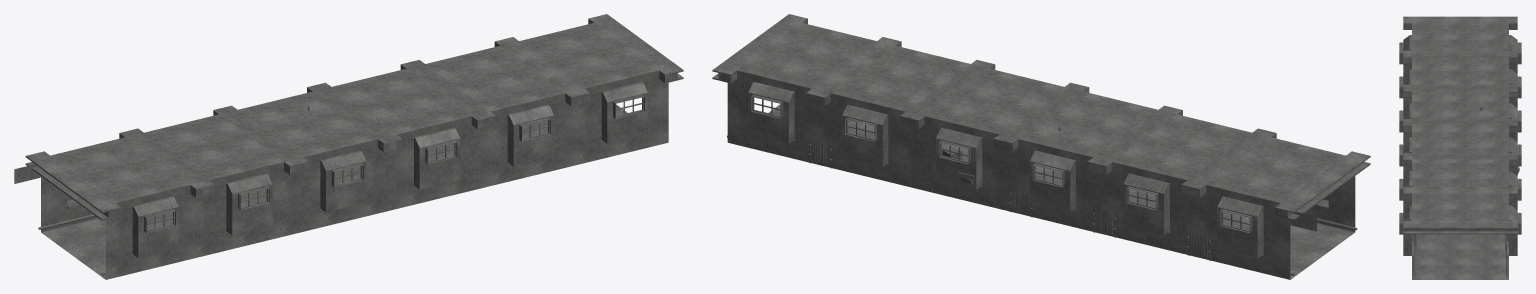
The model's file is interior environment blockout5.glb.
3 views of the same model, side by side, from view 1: azimuth 30°, elevation 25°; view 2: azimuth 150°, elevation 25°; view 3: azimuth 270°, elevation 25° (orthographic). The views are drawn at different scales.
Parts seen in each view (by area): view 1: Plane_002, Cube_005; view 2: Plane_002, Cube_005, radiator_002; view 3: Plane_002, Cube_005, radiator_001, radiator_002.
Part boxes in pixels (x1,y1,x2,y2): Plane_002: (41,20,673,279); Cube_005: (25,14,683,220); Plane_002: (721,16,1360,279); Cube_005: (712,14,1370,220); radiator_002: (727,135,1294,275); Plane_002: (1399,20,1521,279); Cube_005: (1403,16,1517,234); radiator_001: (1412,234,1416,277); radiator_002: (1505,234,1508,277).
Size of the model in its own units: 234 by 29.49 by 55.67.
1 material, 1 textured.
